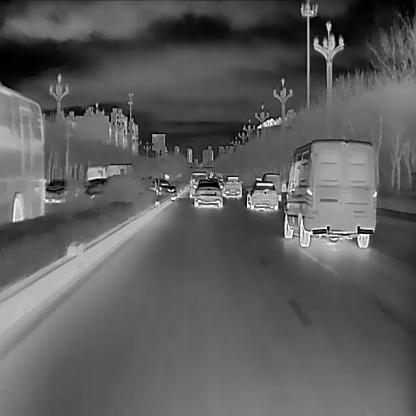bus: (0, 83, 44, 223)
car: (280, 138, 378, 248), (244, 180, 278, 210), (191, 177, 223, 207), (148, 176, 176, 202), (187, 170, 208, 196), (259, 173, 281, 197), (43, 178, 65, 201), (220, 176, 240, 197)
